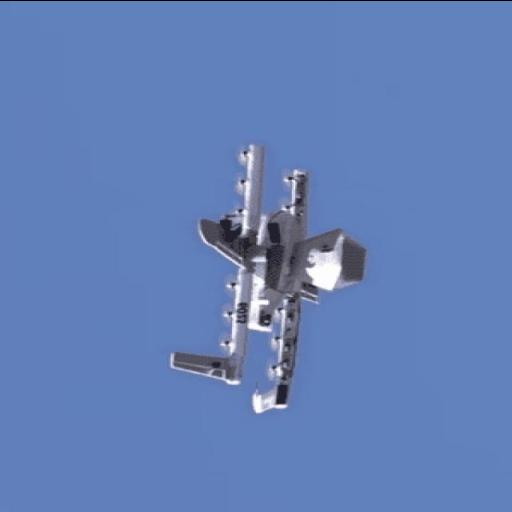uav: (157, 135, 381, 426)
